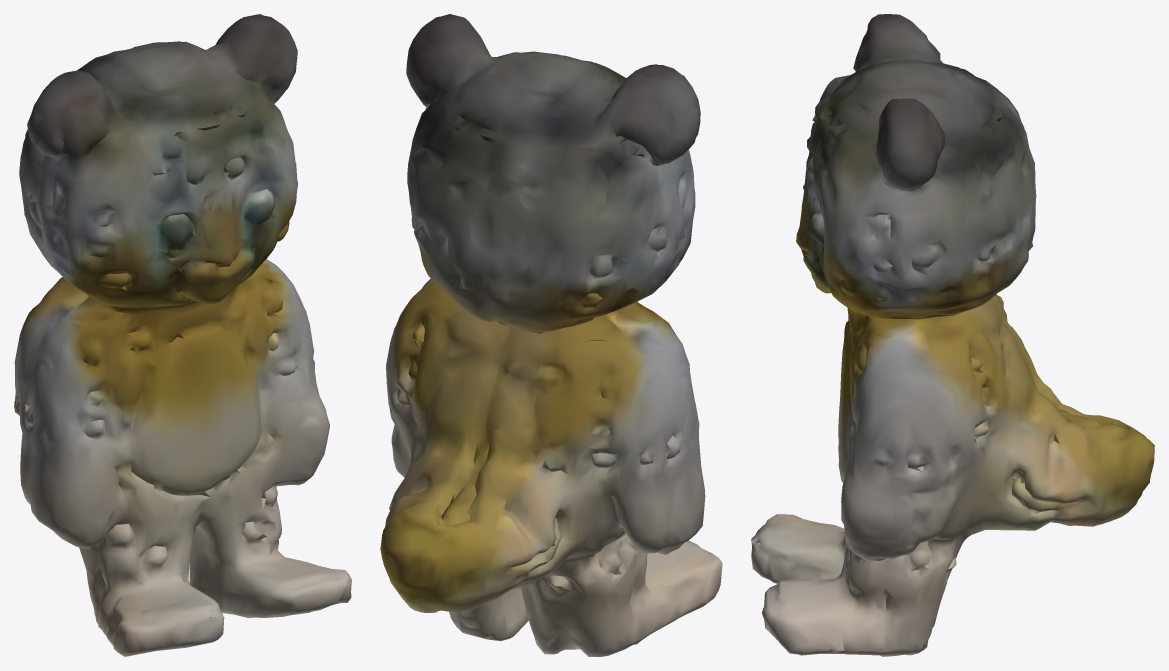
Rendered from leopard_triposr.glb.
3 renders of one model, left to right at view 1: azimuth 30°, elevation 25°; view 2: azimuth 150°, elevation 25°; view 3: azimuth 270°, elevation 25°, orthographic. The views are drawn at different scales.
Visible parts, largest first — view 1: leopard_triposr; view 2: leopard_triposr; view 3: leopard_triposr.
Part boxes in pixels (x1,y1,x2,y2): leopard_triposr: (14,14,351,656); leopard_triposr: (380,14,722,656); leopard_triposr: (751,14,1154,656).
Bounding box in the file's own units: 0.6809 × 1.35 × 0.8752.
